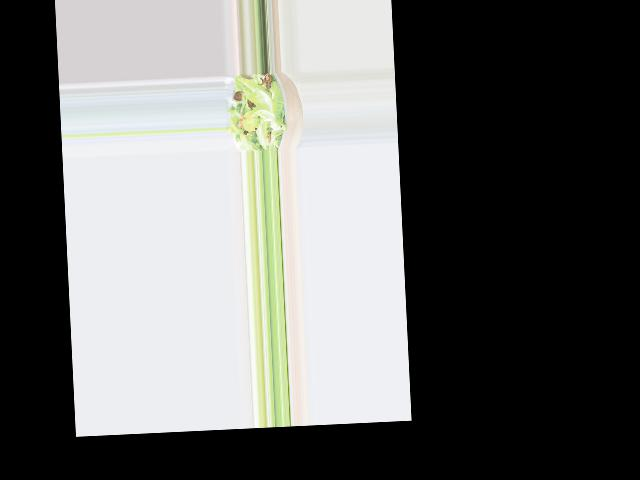lettuce: (228, 79, 286, 148)
